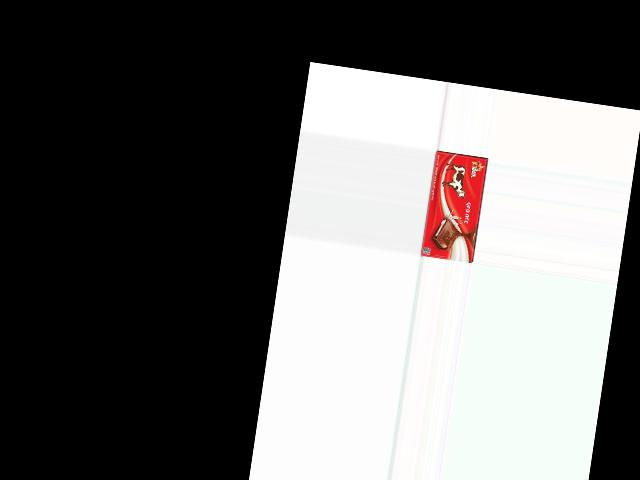chocolate: (419, 148, 488, 263)
